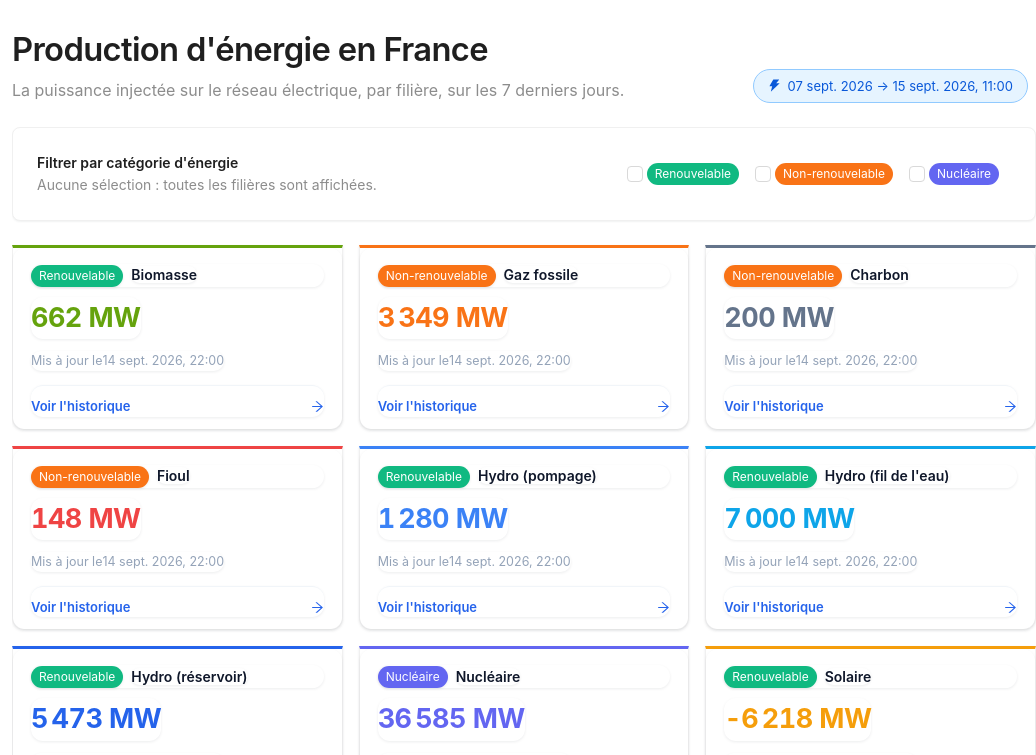
Test case: GenerationDashboard › filters the cards by selected category
The width and height of the screenshot is (1036, 755).
Expected: the text "Nucléaire" is shown 3 times, [929,163,999,185]; [378,666,448,688]; [456,668,520,685]
Click the checkbox labelled "Renouvelable" at point(689, 174), box [627,162,751,185]
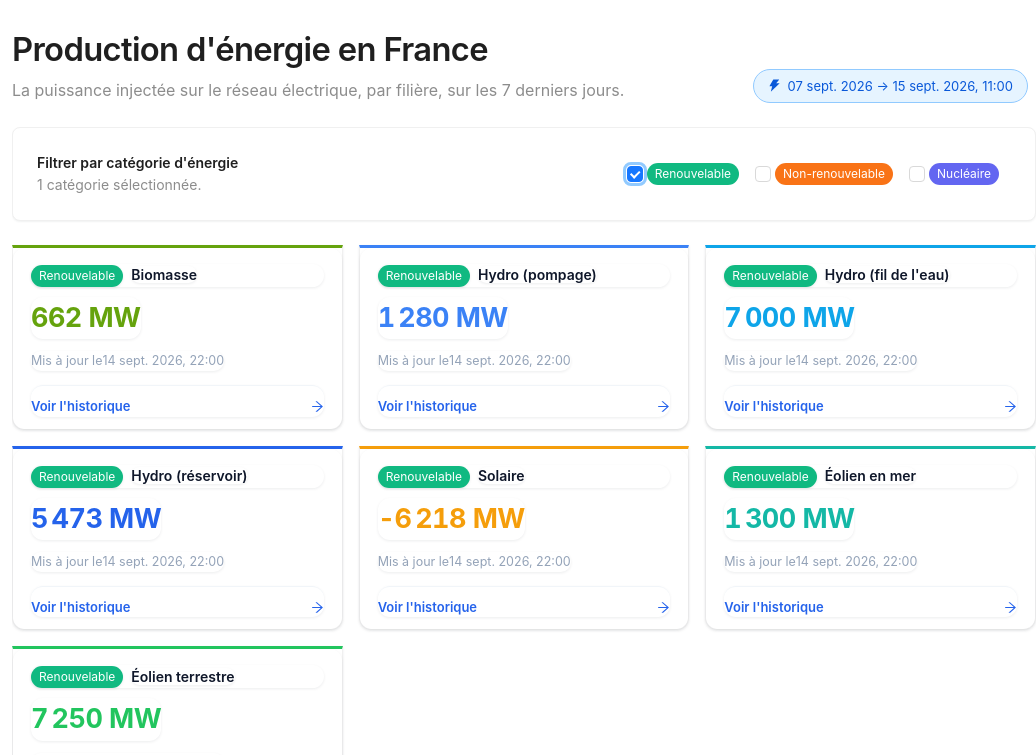
Result: the number of links is 7
Result: the text "Nucléaire" is shown once at [929,163,999,185]
Result: the link "Gaz fossile" is gone
Click the checkbox labelled "Non-renouvelable" at point(830, 174), box [755,162,905,185]
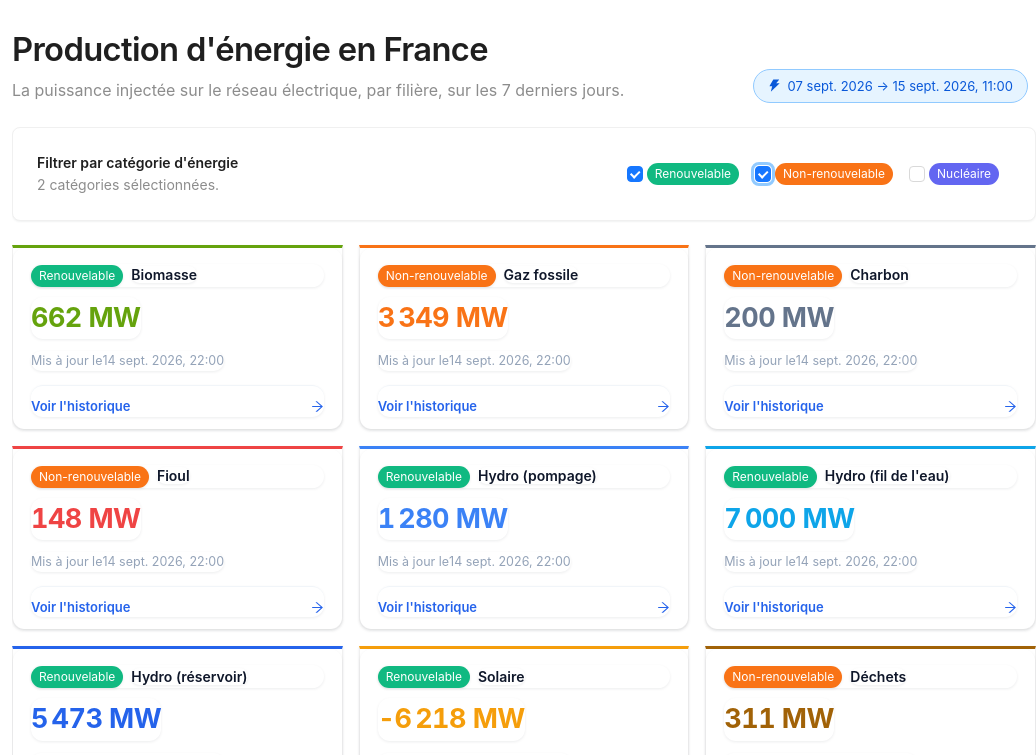
Result: the number of links is 11
Result: the text "Gaz fossile" is shown at [504,266,578,283]
